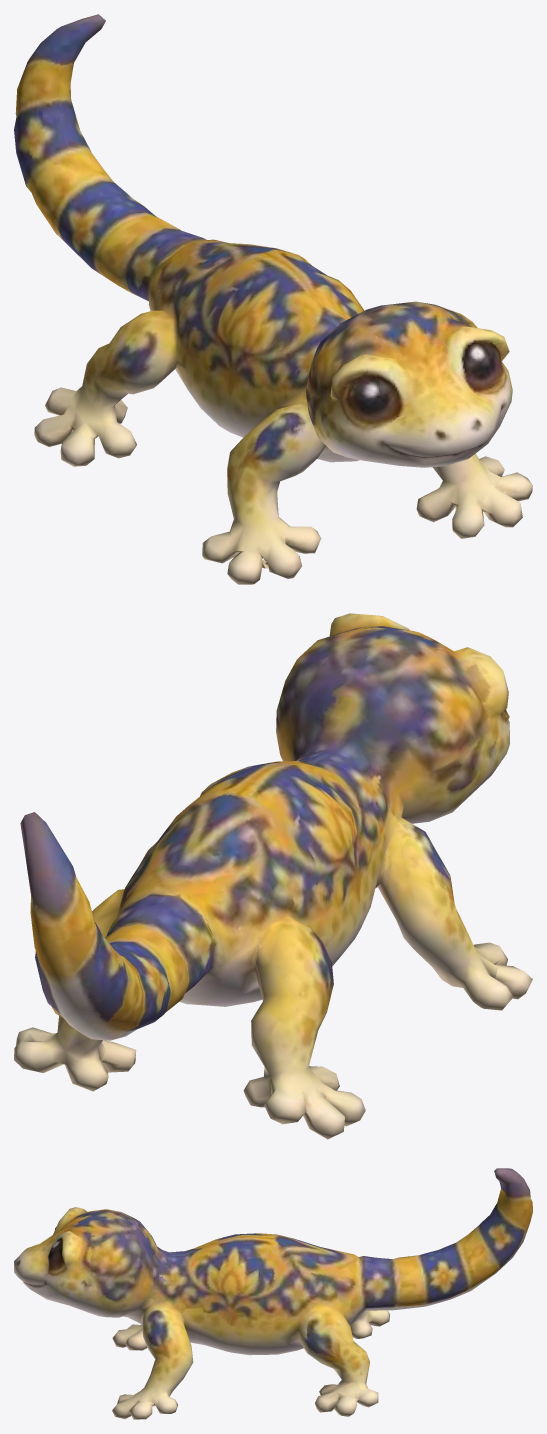
The model's file is toad-posed-gecko.glb.
3 renders of one model, top to bottom at view 1: azimuth 30°, elevation 25°; view 2: azimuth 150°, elevation 25°; view 3: azimuth 270°, elevation 25°, orthographic. The views are drawn at different scales.
Parts seen in each view (by area): view 1: animal-gecko_Look; view 2: animal-gecko_Look; view 3: animal-gecko_Look.
Part boxes in pixels (<box>): animal-gecko_Look: <box>14,14,532,584</box>; animal-gecko_Look: <box>14,613,532,1139</box>; animal-gecko_Look: <box>14,1168,532,1419</box>.
Size of the model in its own units: 0.1262 by 0.1239 by 0.2721.
1 material, 1 textured.
